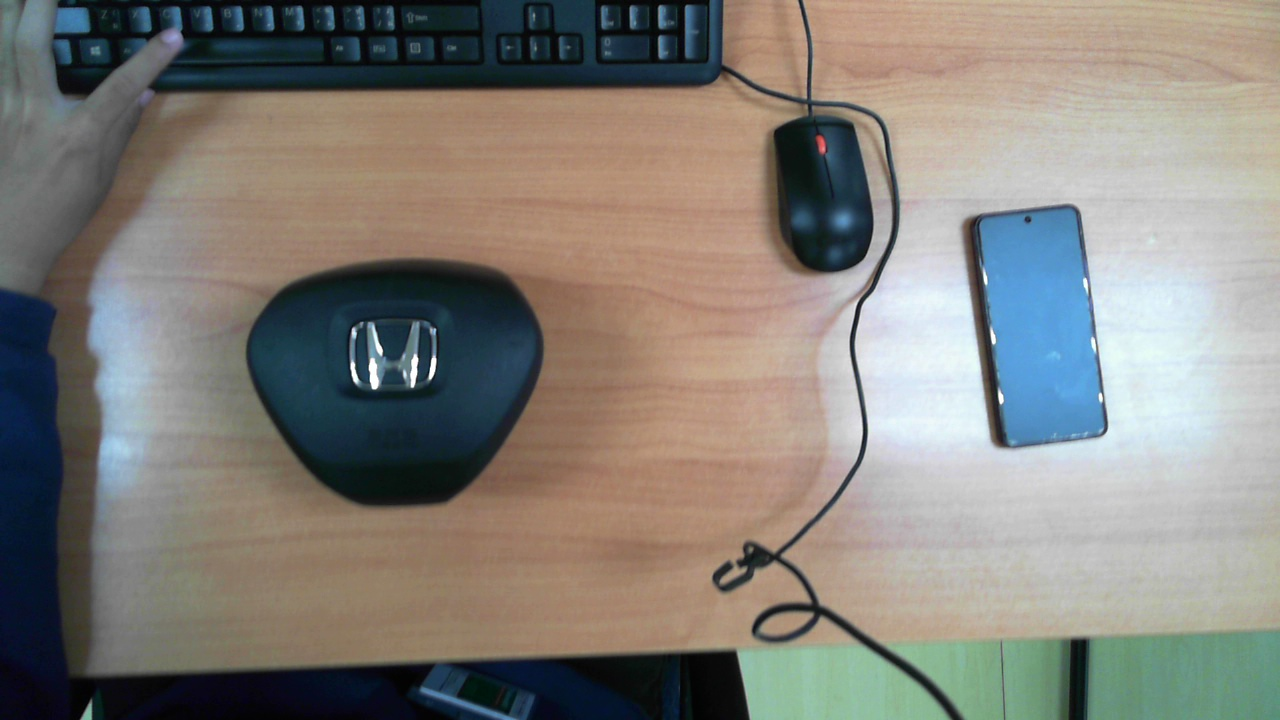Airbag: (247, 259, 545, 507)
